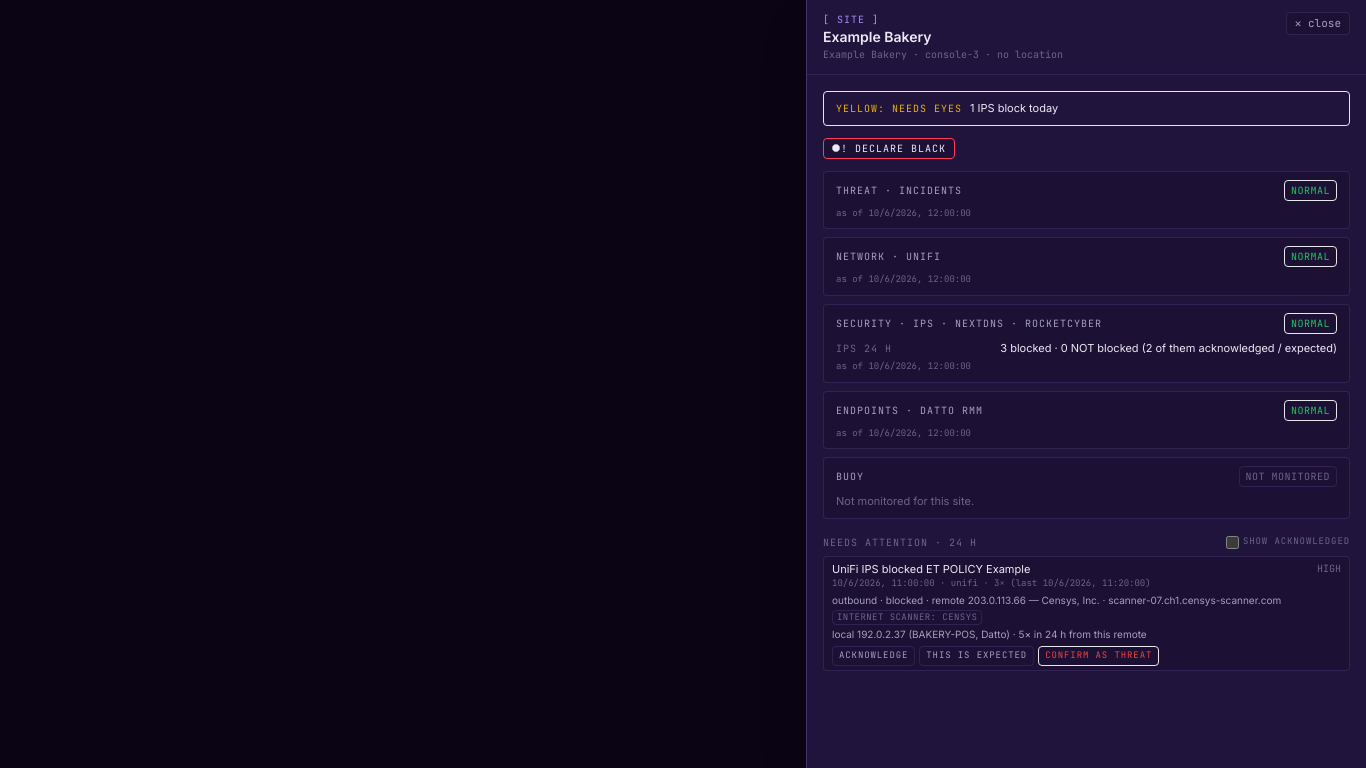
the drawer's needs-attention list › acknowledges with a note and repeats, then reloads the list and the fleet
Click the button with test id "ack-open-41".
click(874, 656)  # box [832, 646, 915, 666]
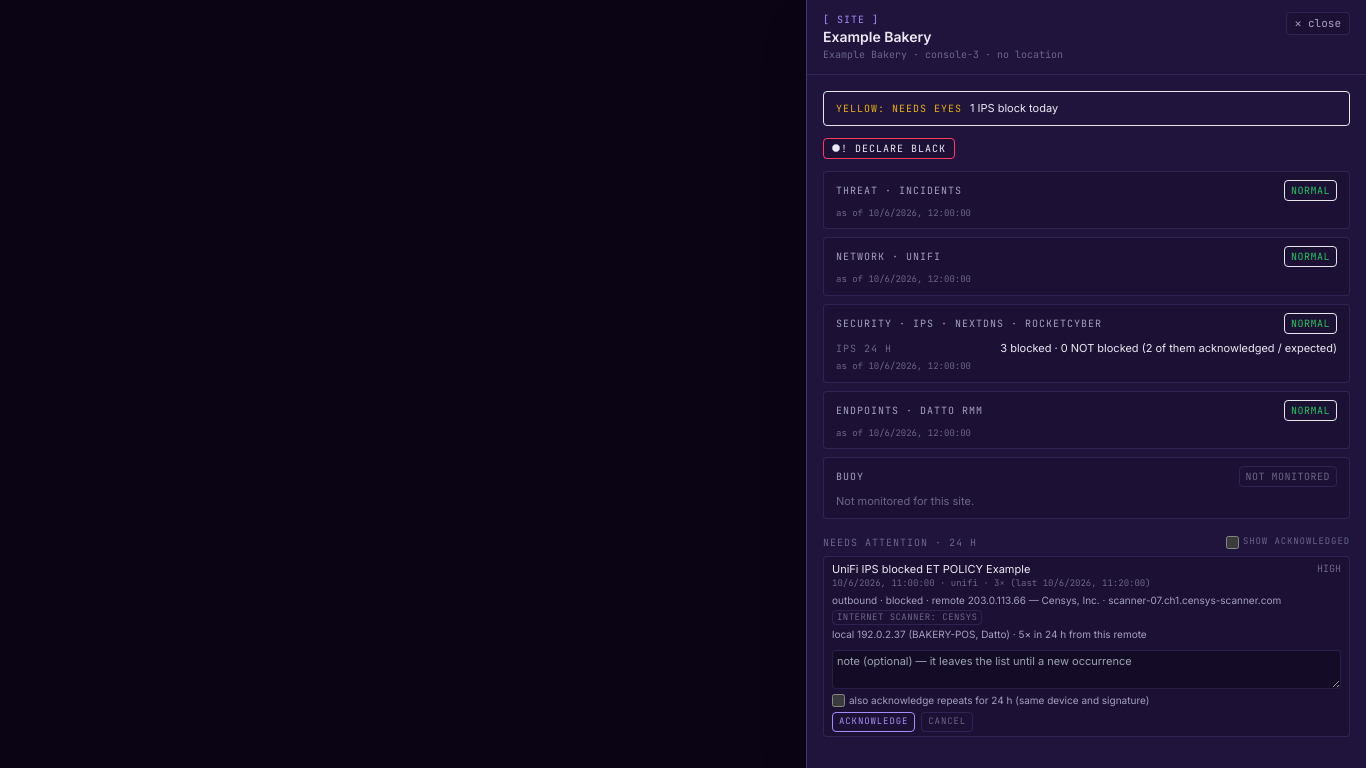
Type "  checked   with the client " into the text box with test id "ack-note-41".
click(1086, 670); type("  checked   with the client ")  # box [832, 650, 1341, 689]
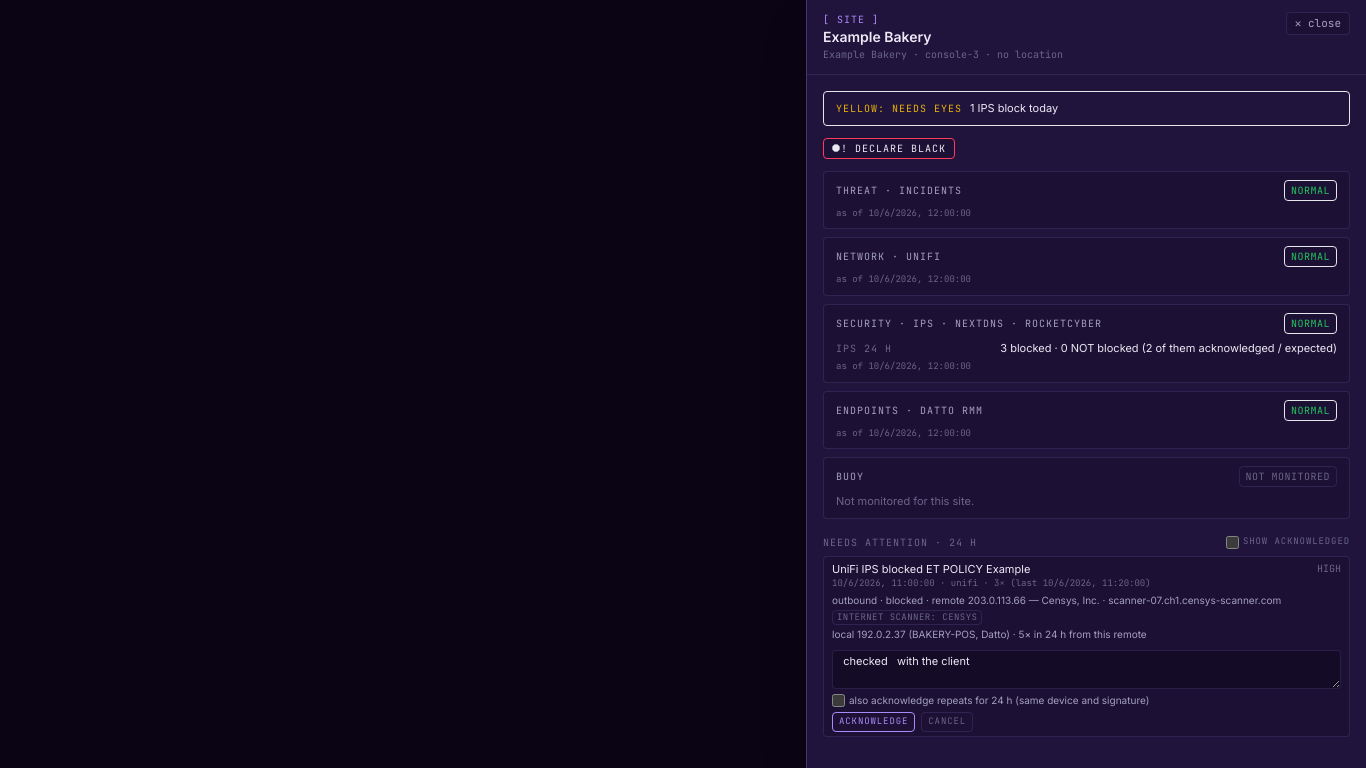
Click the checkbox with test id "ack-repeat-41".
click(838, 700)  # box [832, 694, 845, 707]
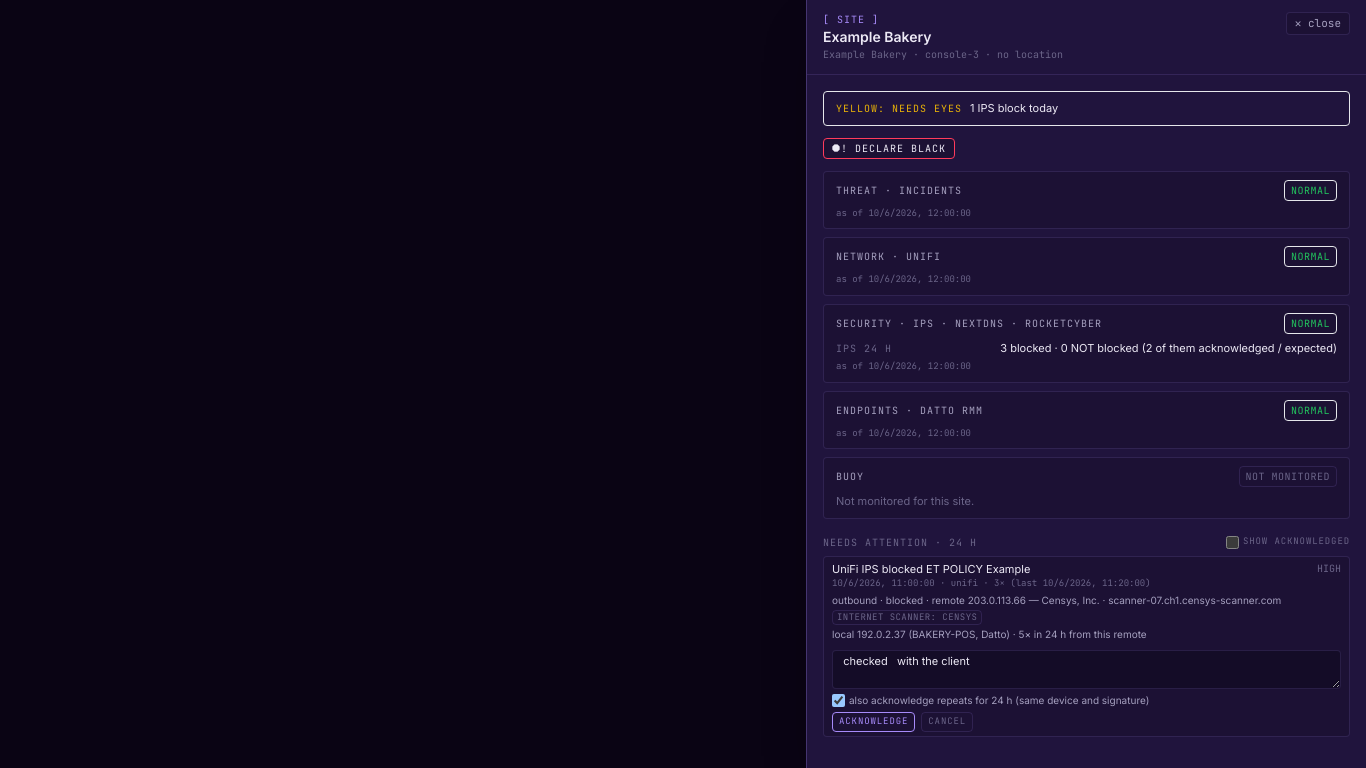
Click the button with test id "ack-submit-41".
click(874, 722)  # box [832, 712, 915, 732]
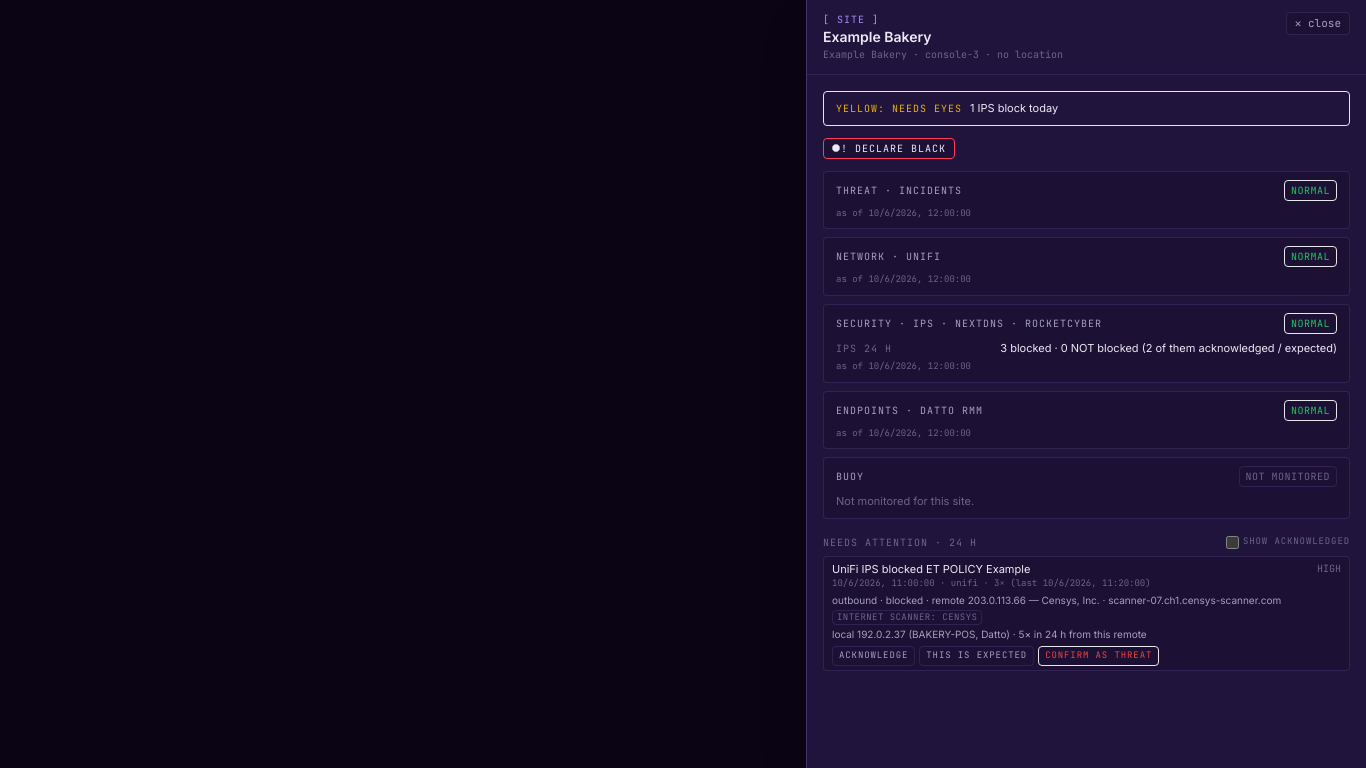
Expected: the form with test id "ack-form-41" is gone
